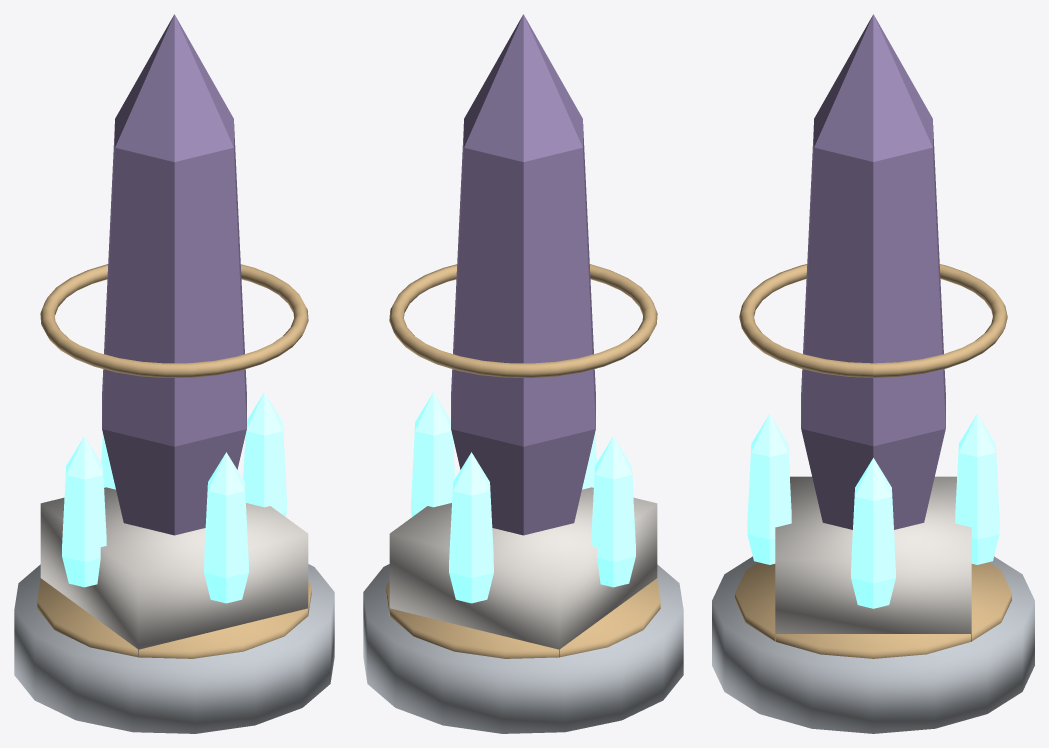
Rendered from prp_note_obelisk.glb.
3 renders of one model, left to right at view 1: azimuth 30°, elevation 25°; view 2: azimuth 150°, elevation 25°; view 3: azimuth 270°, elevation 25°, orthographic.
Visible parts, largest first — view 1: PRP_note_obelisk_upper, PRP_note_obelisk_foot, PRP_note_obelisk_plinth, PRP_note_obelisk_levitation_ring, PRP_note_obelisk_gold_ring, PRP_note_obelisk_smaller_3, PRP_note_obelisk_smaller_2, PRP_note_obelisk_smaller_0; view 2: PRP_note_obelisk_upper, PRP_note_obelisk_foot, PRP_note_obelisk_plinth, PRP_note_obelisk_levitation_ring, PRP_note_obelisk_gold_ring, PRP_note_obelisk_smaller_1, PRP_note_obelisk_smaller_2, PRP_note_obelisk_smaller_0; view 3: PRP_note_obelisk_upper, PRP_note_obelisk_foot, PRP_note_obelisk_plinth, PRP_note_obelisk_gold_ring, PRP_note_obelisk_levitation_ring, PRP_note_obelisk_smaller_0, PRP_note_obelisk_smaller_1, PRP_note_obelisk_smaller_3.
Boxes of the visible parts, x1,y1,x2,y2 form: PRP_note_obelisk_upper: [102, 14, 246, 535]; PRP_note_obelisk_foot: [14, 564, 334, 733]; PRP_note_obelisk_plinth: [40, 487, 308, 657]; PRP_note_obelisk_levitation_ring: [40, 264, 308, 377]; PRP_note_obelisk_gold_ring: [37, 578, 311, 658]; PRP_note_obelisk_smaller_3: [204, 452, 248, 603]; PRP_note_obelisk_smaller_2: [62, 436, 106, 587]; PRP_note_obelisk_smaller_0: [243, 392, 286, 516]; PRP_note_obelisk_upper: [451, 14, 595, 535]; PRP_note_obelisk_foot: [363, 564, 683, 733]; PRP_note_obelisk_plinth: [389, 487, 657, 657]; PRP_note_obelisk_levitation_ring: [389, 264, 657, 377]; PRP_note_obelisk_gold_ring: [386, 578, 660, 658]; PRP_note_obelisk_smaller_1: [449, 452, 493, 603]; PRP_note_obelisk_smaller_2: [591, 436, 635, 587]; PRP_note_obelisk_smaller_0: [411, 392, 454, 516]; PRP_note_obelisk_upper: [801, 14, 945, 529]; PRP_note_obelisk_foot: [712, 556, 1034, 733]; PRP_note_obelisk_plinth: [775, 476, 971, 641]; PRP_note_obelisk_gold_ring: [735, 562, 1011, 658]; PRP_note_obelisk_levitation_ring: [739, 264, 1007, 377]; PRP_note_obelisk_smaller_0: [851, 458, 895, 608]; PRP_note_obelisk_smaller_1: [955, 414, 999, 564]; PRP_note_obelisk_smaller_3: [747, 414, 791, 564].
Bounding box in the file's own units: 1.12 × 2.5 × 1.12.
